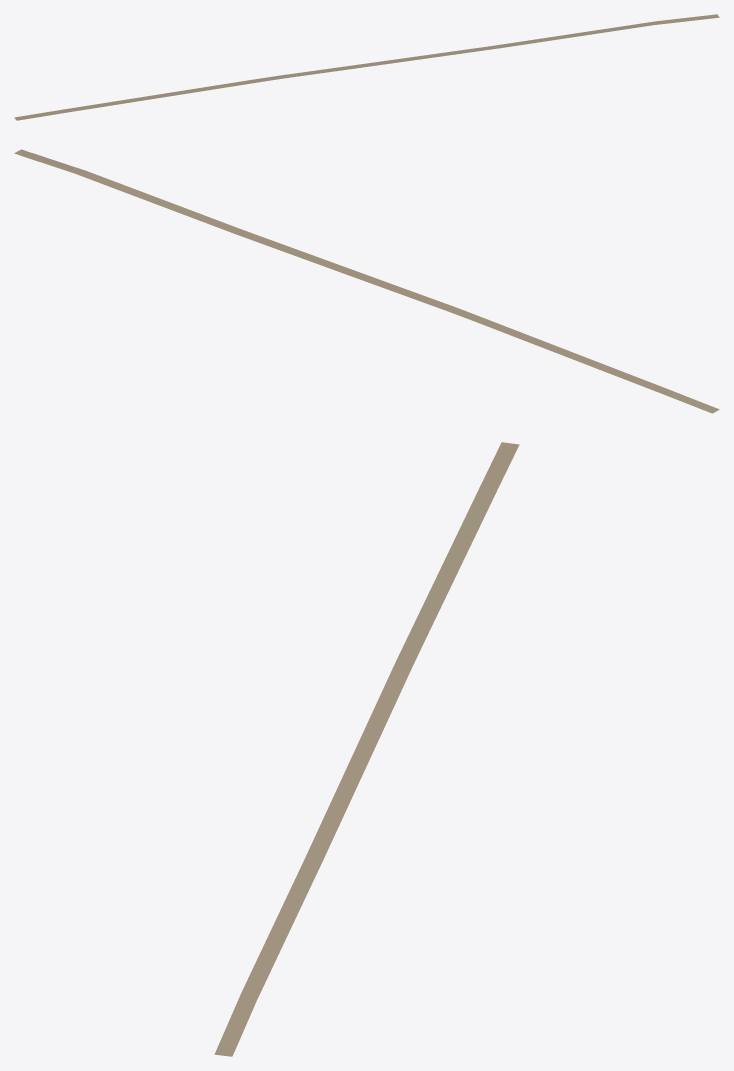
The model's file is farm_24_21_track.glb.
3 renders of one model, top to bottom at view 1: azimuth 30°, elevation 25°; view 2: azimuth 150°, elevation 25°; view 3: azimuth 270°, elevation 25°, orthographic. The views are drawn at different scales.
Parts seen in each view (by area): view 1: geometry_0; view 2: geometry_0; view 3: geometry_0.
Boxes of the visible parts, x1,y1,x2,y2 form: geometry_0: [14, 14, 719, 120]; geometry_0: [14, 149, 719, 413]; geometry_0: [214, 442, 519, 1056].
Bounding box in the file's own units: 261 × 1.64 × 54.64.
